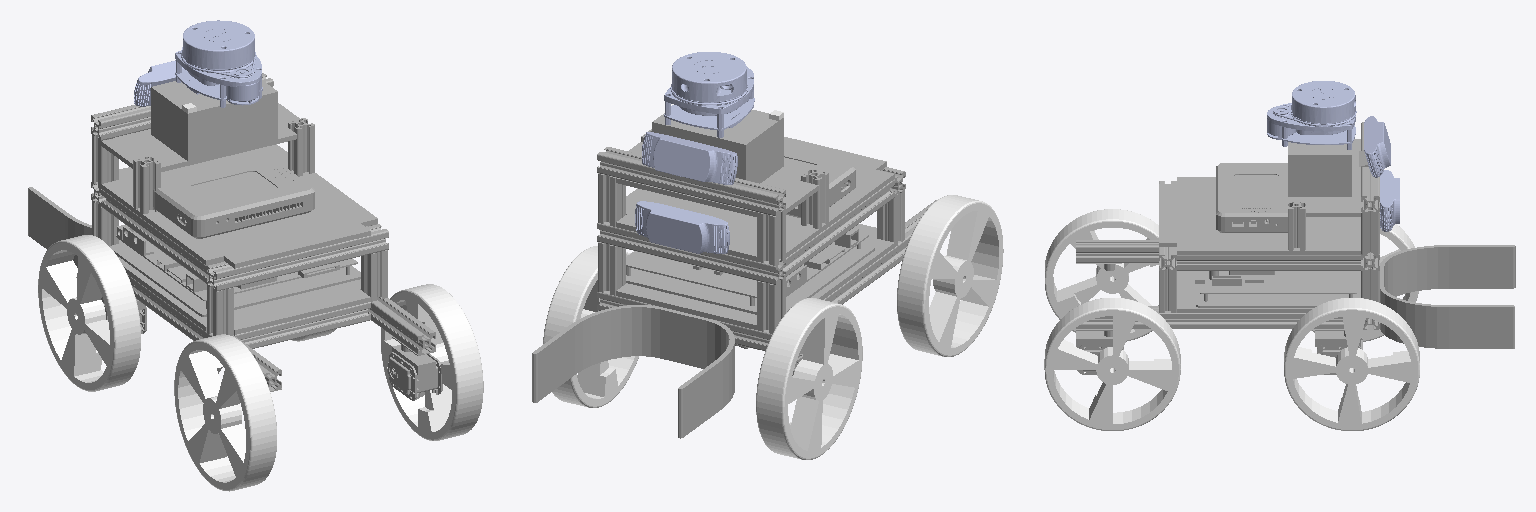
robot.urdf — model24:
<?xml version="1.0" encoding="utf-8"?>
<!-- This URDF was automatically created by SolidWorks to URDF Exporter! Originally created by [author] ([email redacted]) 
     Commit Version: 1.5.1-0-g916b5db  Build Version: 1.5.7152.31018
     For more information, please see http://wiki.ros.org/sw_urdf_exporter -->
<robot
  name="model24">
  <link
    name="base_link">
    <inertial>
      <origin
        xyz="-0.0483584912700585 -0.570328251080176 -0.0266876605513664"
        rpy="0 0 0" />
      <mass
        value="3.21829386296279" />
      <inertia
        ixx="0.00721990996747051"
        ixy="-1.93643410745552E-06"
        ixz="-3.86677335720234E-07"
        iyy="0.00580151653868739"
        iyz="6.76040378112396E-07"
        izz="0.0125117312153311" />
    </inertial>
    <visual>
      <origin
        xyz="0 0 0"
        rpy="0 0 0" />
      <geometry>
        <mesh
          filename="package://model24/meshes/base_link.STL" />
      </geometry>
      <material
        name="">
        <color
          rgba="0.752941176470588 0.752941176470588 0.752941176470588 1" />
      </material>
    </visual>
    <collision>
      <origin
        xyz="0 0 0"
        rpy="0 0 0" />
      <geometry>
        <mesh
          filename="package://model24/meshes/base_link.STL" />
      </geometry>
    </collision>
  </link>
  <link
    name="left_front_wheel_suspension">
    <inertial>
      <origin
        xyz="-0.00786753377996494 -0.0155948984609842 0.0232556468762561"
        rpy="0 0 0" />
      <mass
        value="0.0651133753252895" />
      <inertia
        ixx="1.48802654908116E-05"
        ixy="1.64845451975805E-08"
        ixz="-1.56420031463121E-07"
        iyy="1.75245555055195E-05"
        iyz="-2.96403540336102E-09"
        izz="8.01010024686586E-06" />
    </inertial>
    <visual>
      <origin
        xyz="0 0 0"
        rpy="0 0 0" />
      <geometry>
        <mesh
          filename="package://model24/meshes/left_front_wheel_suspension.STL" />
      </geometry>
      <material
        name="">
        <color
          rgba="0.752941176470588 0.752941176470588 0.752941176470588 1" />
      </material>
    </visual>
    <collision>
      <origin
        xyz="0 0 0"
        rpy="0 0 0" />
      <geometry>
        <mesh
          filename="package://model24/meshes/left_front_wheel_suspension.STL" />
      </geometry>
    </collision>
  </link>
  <joint
    name="left_front_wheel_suspension_joint"
    type="prismatic">
    <origin
      xyz="-0.126408549299102 -0.497497400808498 -0.100377754287938"
      rpy="1.5707963267949 0 0" />
    <parent
      link="base_link" />
    <child
      link="left_front_wheel_suspension" />
    <axis
      xyz="0 1 0" />
    <limit
      lower="0"
      upper="0"
      effort="0"
      velocity="0" />
  </joint>
  <link
    name="left_front_wheel">
    <inertial>
      <origin
        xyz="0.0158399891826273 -4.59981459866032E-09 7.99690621500204E-08"
        rpy="0 0 0" />
      <mass
        value="0.22822169800504" />
      <inertia
        ixx="0.000789211576324214"
        ixy="-1.09995507949868E-10"
        ixz="1.91230261060072E-09"
        iyy="0.000410429434291453"
        iyz="-5.55679024387239E-16"
        izz="0.000410429434301075" />
    </inertial>
    <visual>
      <origin
        xyz="0 0 0"
        rpy="0 0 0" />
      <geometry>
        <mesh
          filename="package://model24/meshes/left_front_wheel.STL" />
      </geometry>
      <material
        name="">
        <color
          rgba="1 1 1 1" />
      </material>
    </visual>
    <collision>
      <origin
        xyz="0 0 0"
        rpy="0 0 0" />
      <geometry>
        <mesh
          filename="package://model24/meshes/left_front_wheel.STL" />
      </geometry>
    </collision>
  </link>
  <joint
    name="left_front_wheel_joint"
    type="continuous">
    <origin
      xyz="-0.0197601403859578 -0.0217865728752538 0.00999990007507129"
      rpy="3.08413603591628 0 3.14159265358979" />
    <parent
      link="left_front_wheel_suspension" />
    <child
      link="left_front_wheel" />
    <axis
      xyz="0.999999999987214 0 0" />
    <limit
      effort="3.1"
      velocity="7" />
  </joint>
  <link
    name="right_front_wheel_suspension">
    <inertial>
      <origin
        xyz="-0.00415434378457435 -0.0156302499401892 0.023255686661272"
        rpy="0 0 0" />
      <mass
        value="0.0651133753251555" />
      <inertia
        ixx="1.48802639086072E-05"
        ixy="1.648453020563E-08"
        ixz="1.56454773175217E-07"
        iyy="1.75245555054544E-05"
        iyz="2.96411876510204E-09"
        izz="8.01010182899685E-06" />
    </inertial>
    <visual>
      <origin
        xyz="0 0 0"
        rpy="0 0 0" />
      <geometry>
        <mesh
          filename="package://model24/meshes/right_front_wheel_suspension.STL" />
      </geometry>
      <material
        name="">
        <color
          rgba="0.752941176470588 0.752941176470588 0.752941176470588 1" />
      </material>
    </visual>
    <collision>
      <origin
        xyz="0 0 0"
        rpy="0 0 0" />
      <geometry>
        <mesh
          filename="package://model24/meshes/right_front_wheel_suspension.STL" />
      </geometry>
    </collision>
  </link>
  <joint
    name="right_front_wheel_suspension_joint"
    type="prismatic">
    <origin
      xyz="0.0435913849612735 -0.497497370411912 -0.100377754287938"
      rpy="1.5707963267949 0 0" />
    <parent
      link="base_link" />
    <child
      link="right_front_wheel_suspension" />
    <axis
      xyz="0 1 0" />
    <limit
      lower="0"
      upper="0"
      effort="0"
      velocity="0" />
  </joint>
  <link
    name="right_front_wheel">
    <inertial>
      <origin
        xyz="0.015839199018542 1.11022302462516E-16 0"
        rpy="0 0 0" />
      <mass
        value="0.22822169800504" />
      <inertia
        ixx="0.000789211576333899"
        ixy="-3.35875425871413E-20"
        ixz="5.10286006149185E-21"
        iyy="0.000410429434291421"
        iyz="-3.18484388167617E-19"
        izz="0.00041042943429142" />
    </inertial>
    <visual>
      <origin
        xyz="0 0 0"
        rpy="0 0 0" />
      <geometry>
        <mesh
          filename="package://model24/meshes/right_front_wheel.STL" />
      </geometry>
      <material
        name="">
        <color
          rgba="1 1 1 1" />
      </material>
    </visual>
    <collision>
      <origin
        xyz="0 0 0"
        rpy="0 0 0" />
      <geometry>
        <mesh
          filename="package://model24/meshes/right_front_wheel.STL" />
      </geometry>
    </collision>
  </link>
  <joint
    name="right_front_wheel_joint"
    type="continuous">
    <origin
      xyz="0.00773912001850283 -0.0217849999999998 0.0100000000000001"
      rpy="0.162600051915931 0 0" />
    <parent
      link="right_front_wheel_suspension" />
    <child
      link="right_front_wheel" />
    <axis
      xyz="1 0 0" />
    <limit
      effort="3.1"
      velocity="7" />
  </joint>
  <link
    name="left_rear_wheel_suspension">
    <inertial>
      <origin
        xyz="-0.00786753377996494 -0.0155948984609842 0.023255646876256"
        rpy="0 0 0" />
      <mass
        value="0.0651133753252895" />
      <inertia
        ixx="1.48802654908115E-05"
        ixy="1.64845451975805E-08"
        ixz="-1.56420031463129E-07"
        iyy="1.75245555055195E-05"
        iyz="-2.96403540336443E-09"
        izz="8.01010024686586E-06" />
    </inertial>
    <visual>
      <origin
        xyz="0 0 0"
        rpy="0 0 0" />
      <geometry>
        <mesh
          filename="package://model24/meshes/left_rear_wheel_suspension.STL" />
      </geometry>
      <material
        name="">
        <color
          rgba="0.752941176470588 0.752941176470588 0.752941176470588 1" />
      </material>
    </visual>
    <collision>
      <origin
        xyz="0 0 0"
        rpy="0 0 0" />
      <geometry>
        <mesh
          filename="package://model24/meshes/left_rear_wheel_suspension.STL" />
      </geometry>
    </collision>
  </link>
  <joint
    name="left_rear_wheel_suspension_joint"
    type="prismatic">
    <origin
      xyz="-0.126409864093137 -0.757497400808498 -0.100377754287938"
      rpy="1.5707963267949 0 0" />
    <parent
      link="base_link" />
    <child
      link="left_rear_wheel_suspension" />
    <axis
      xyz="0 1 0" />
    <limit
      lower="0"
      upper="0"
      effort="0"
      velocity="0" />
  </joint>
  <link
    name="left_rear_wheel">
    <inertial>
      <origin
        xyz="0.0158401765053967 7.40328947035351E-08 3.05858046945051E-08"
        rpy="0 0 0" />
      <mass
        value="0.22822169800504" />
      <inertia
        ixx="0.000789211576324214"
        ixy="1.77032992327332E-09"
        ixz="7.31390626651519E-10"
        iyy="0.000410429434299695"
        iyz="3.41782537601615E-15"
        izz="0.000410429434292833" />
    </inertial>
    <visual>
      <origin
        xyz="0 0 0"
        rpy="0 0 0" />
      <geometry>
        <mesh
          filename="package://model24/meshes/left_rear_wheel.STL" />
      </geometry>
      <material
        name="">
        <color
          rgba="1 1 1 1" />
      </material>
    </visual>
    <collision>
      <origin
        xyz="0 0 0"
        rpy="0 0 0" />
      <geometry>
        <mesh
          filename="package://model24/meshes/left_rear_wheel.STL" />
      </geometry>
    </collision>
  </link>
  <joint
    name="left_rear_wheel_joint"
    type="continuous">
    <origin
      xyz="-0.0197599530631884 -0.0217865728752538 0.00999990007601836"
      rpy="-1.96257703993044 0 3.14159265358979" />
    <parent
      link="left_rear_wheel_suspension" />
    <child
      link="left_rear_wheel" />
    <axis
      xyz="0.999999999987214 0 0" />
    <limit
      effort="3.1"
      velocity="7" />
  </joint>
  <link
    name="right_rear_wheel_suspension">
    <inertial>
      <origin
        xyz="-0.00415434378457436 -0.0156302499401892 0.0232556866612721"
        rpy="0 0 0" />
      <mass
        value="0.0651133753251554" />
      <inertia
        ixx="1.48802639086072E-05"
        ixy="1.64845302056292E-08"
        ixz="1.56454773175207E-07"
        iyy="1.75245555054544E-05"
        iyz="2.9641187651051E-09"
        izz="8.01010182899684E-06" />
    </inertial>
    <visual>
      <origin
        xyz="0 0 0"
        rpy="0 0 0" />
      <geometry>
        <mesh
          filename="package://model24/meshes/right_rear_wheel_suspension.STL" />
      </geometry>
      <material
        name="">
        <color
          rgba="0.752941176470588 0.752941176470588 0.752941176470588 1" />
      </material>
    </visual>
    <collision>
      <origin
        xyz="0 0 0"
        rpy="0 0 0" />
      <geometry>
        <mesh
          filename="package://model24/meshes/right_rear_wheel_suspension.STL" />
      </geometry>
    </collision>
  </link>
  <joint
    name="right_rear_wheel_suspension_joint"
    type="prismatic">
    <origin
      xyz="0.0435913849612735 -0.757497370411907 -0.100377754287938"
      rpy="1.5707963267949 0 0" />
    <parent
      link="base_link" />
    <child
      link="right_rear_wheel_suspension" />
    <axis
      xyz="0 1 0" />
    <limit
      lower="0"
      upper="0"
      effort="0"
      velocity="0" />
  </joint>
  <link
    name="right_rear_wheel">
    <inertial>
      <origin
        xyz="0.0158391990185419 1.11022302462516E-16 0"
        rpy="0 0 0" />
      <mass
        value="0.22822169800504" />
      <inertia
        ixx="0.0007892115763339"
        ixy="4.70450765359E-22"
        ixz="5.665157729366E-21"
        iyy="0.000410429434291421"
        iyz="-3.1354901504282E-19"
        izz="0.00041042943429142" />
    </inertial>
    <visual>
      <origin
        xyz="0 0 0"
        rpy="0 0 0" />
      <geometry>
        <mesh
          filename="package://model24/meshes/right_rear_wheel.STL" />
      </geometry>
      <material
        name="">
        <color
          rgba="1 1 1 1" />
      </material>
    </visual>
    <collision>
      <origin
        xyz="0 0 0"
        rpy="0 0 0" />
      <geometry>
        <mesh
          filename="package://model24/meshes/right_rear_wheel.STL" />
      </geometry>
    </collision>
  </link>
  <joint
    name="right_rear_wheel_joint"
    type="continuous">
    <origin
      xyz="0.00773912001850204 -0.021785 0.01"
      rpy="0 0 0" />
    <parent
      link="right_rear_wheel_suspension" />
    <child
      link="right_rear_wheel" />
    <axis
      xyz="1 0 0" />
    <limit
      effort="3.1"
      velocity="7" />
  </joint>
  <link
    name="camera">
    <inertial>
      <origin
        xyz="-0.0113544749097687 0.00129821973144108 1.10631679103926E-05"
        rpy="0 0 0" />
      <mass
        value="0.0436119950287127" />
      <inertia
        ixx="2.35707058046401E-05"
        ixy="2.17579681215255E-08"
        ixz="1.01813691699858E-09"
        iyy="2.21058141232449E-05"
        iyz="8.85791114075142E-10"
        izz="4.29479133591155E-06" />
    </inertial>
    <visual>
      <origin
        xyz="0 0 0"
        rpy="0 0 0" />
      <geometry>
        <mesh
          filename="package://model24/meshes/camera.STL" />
      </geometry>
      <material
        name="">
        <color
          rgba="0.792156862745098 0.819607843137255 0.933333333333333 1" />
      </material>
    </visual>
    <collision>
      <origin
        xyz="0 0 0"
        rpy="0 0 0" />
      <geometry>
        <mesh
          filename="package://model24/meshes/camera.STL" />
      </geometry>
    </collision>
  </link>
  <joint
    name="camera"
    type="fixed">
    <origin
      xyz="-0.0474279144716994 -0.455698685205959 0.0206099543969956"
      rpy="1.5707963267949 0 1.57079632679541" />
    <parent
      link="base_link" />
    <child
      link="camera" />
    <axis
      xyz="0 0 0" />
  </joint>
  <link
    name="camera2">
    <inertial>
      <origin
        xyz="-0.0113544534309981 0.00129834296576298 1.07114395615296E-05"
        rpy="0 0 0" />
      <mass
        value="0.0436115646020756" />
      <inertia
        ixx="2.35700541862173E-05"
        ixy="2.17644981327687E-08"
        ixz="9.97288459824692E-10"
        iyy="2.21052311066008E-05"
        iyz="6.84462776105538E-10"
        izz="4.294719281608E-06" />
    </inertial>
    <visual>
      <origin
        xyz="0 0 0"
        rpy="0 0 0" />
      <geometry>
        <mesh
          filename="package://model24/meshes/camera2.STL" />
      </geometry>
      <material
        name="">
        <color
          rgba="0.792156862745098 0.819607843137255 0.933333333333333 1" />
      </material>
    </visual>
    <collision>
      <origin
        xyz="0 0 0"
        rpy="0 0 0" />
      <geometry>
        <mesh
          filename="package://model24/meshes/camera2.STL" />
      </geometry>
    </collision>
  </link>
  <joint
    name="camera2"
    type="fixed">
    <origin
      xyz="-0.047427914471688 -0.469703936876262 0.0891447927385417"
      rpy="1.5707963267949 -0.261799387799143 1.5707963267949" />
    <parent
      link="base_link" />
    <child
      link="camera2" />
    <axis
      xyz="0 0 0" />
  </joint>
  <link
    name="lidar">
    <inertial>
      <origin
        xyz="-0.00868778989367758 -0.00242014065569163 -0.0287648859064543"
        rpy="0 0 0" />
      <mass
        value="0.0730845706123877" />
      <inertia
        ixx="1.95808756096351E-05"
        ixy="-1.03933750344927E-07"
        ixz="4.28391241039135E-07"
        iyy="2.41250086763081E-05"
        iyz="-9.42709906914269E-09"
        izz="4.1418452244397E-05" />
    </inertial>
    <visual>
      <origin
        xyz="0 0 0"
        rpy="0 0 0" />
      <geometry>
        <mesh
          filename="package://model24/meshes/lidar.STL" />
      </geometry>
      <material
        name="">
        <color
          rgba="0.792156862745098 0.819607843137255 0.933333333333333 1" />
      </material>
    </visual>
    <collision>
      <origin
        xyz="0 0 0"
        rpy="0 0 0" />
      <geometry>
        <mesh
          filename="package://model24/meshes/lidar.STL" />
      </geometry>
    </collision>
  </link>
  <joint
    name="lidar_joint"
    type="fixed">
    <origin
      xyz="-0.039622368083775 -0.541757887991876 0.154117879305891"
      rpy="0 0 1.5707963267949" />
    <parent
      link="base_link" />
    <child
      link="lidar" />
    <axis
      xyz="0 0 0" />
  </joint>
  <link
    name="imu">
    <inertial>
      <origin
        xyz="-1.38777878078145E-17 0.00250000000000002 0"
        rpy="0 0 0" />
      <mass
        value="0.000510000000000001" />
      <inertia
        ixx="5.31250000000002E-09"
        ixy="5.52943107967612E-26"
        ixz="-7.37257477290141E-26"
        iyy="8.50000000000004E-09"
        iyz="1.59211946163093E-40"
        izz="5.31250000000002E-09" />
    </inertial>
    <visual>
      <origin
        xyz="0 0 0"
        rpy="0 0 0" />
      <geometry>
        <mesh
          filename="package://model24/meshes/imu.STL" />
      </geometry>
      <material
        name="">
        <color
          rgba="1 1 1 1" />
      </material>
    </visual>
    <collision>
      <origin
        xyz="0 0 0"
        rpy="0 0 0" />
      <geometry>
        <mesh
          filename="package://model24/meshes/imu.STL" />
      </geometry>
    </collision>
  </link>
  <joint
    name="imu"
    type="fixed">
    <origin
      xyz="-0.088670136268106 -0.572498685205947 0.100617879305896"
      rpy="1.5707963267949 0 0" />
    <parent
      link="base_link" />
    <child
      link="imu" />
    <axis
      xyz="0 0 0" />
  </joint>
</robot>

--- Facts derived from the render (not from the file) ---
The picture shows the robot from 3 angles, left to right: view 1: azimuth 30°, elevation 25°; view 2: azimuth 150°, elevation 25°; view 3: azimuth 270°, elevation 25°; orthographic projection.
Robot: model24 — 13 links, 12 joints (4 continuous, 4 prismatic, 4 fixed); root link base_link; default pose: every joint at zero.
Visible links, largest first — view 1: base_link, left_rear_wheel, left_front_wheel, right_rear_wheel, lidar, right_rear_wheel_suspension, camera2; view 2: base_link, left_front_wheel, left_rear_wheel, lidar, right_front_wheel, camera, camera2; view 3: base_link, right_front_wheel, right_rear_wheel, left_rear_wheel, lidar, camera2, camera, left_front_wheel, right_front_wheel_suspension, right_rear_wheel_suspension.
Link boxes in pixels (<box>): base_link: <box>28,73,435,391</box>; left_rear_wheel: <box>174,334,276,491</box>; left_front_wheel: <box>38,235,140,391</box>; right_rear_wheel: <box>381,284,483,440</box>; lidar: <box>175,20,262,107</box>; right_rear_wheel_suspension: <box>387,345,442,400</box>; camera2: <box>134,60,183,106</box>; base_link: <box>532,110,936,438</box>; left_front_wheel: <box>756,298,862,459</box>; left_rear_wheel: <box>897,195,1003,356</box>; lidar: <box>664,52,754,137</box>; right_front_wheel: <box>543,246,638,407</box>; camera: <box>635,201,729,253</box>; camera2: <box>642,132,737,184</box>; base_link: <box>1076,122,1515,348</box>; right_front_wheel: <box>1284,298,1419,430</box>; right_rear_wheel: <box>1044,298,1180,430</box>; left_rear_wheel: <box>1045,209,1158,341</box>; lidar: <box>1267,81,1356,149</box>; camera2: <box>1364,116,1390,177</box>; camera: <box>1380,170,1399,231</box>; left_front_wheel: <box>1312,224,1418,341</box>; right_front_wheel_suspension: <box>1315,331,1362,374</box>; right_rear_wheel_suspension: <box>1076,331,1123,374</box>.
Size in the robot's own frame: 0.2575 by 0.5115 by 0.3503 metres.
12 mesh visuals loaded from 13 distinct referenced files (12 binary STL); not drawn: 1 (reference not matched to a file when rendering).